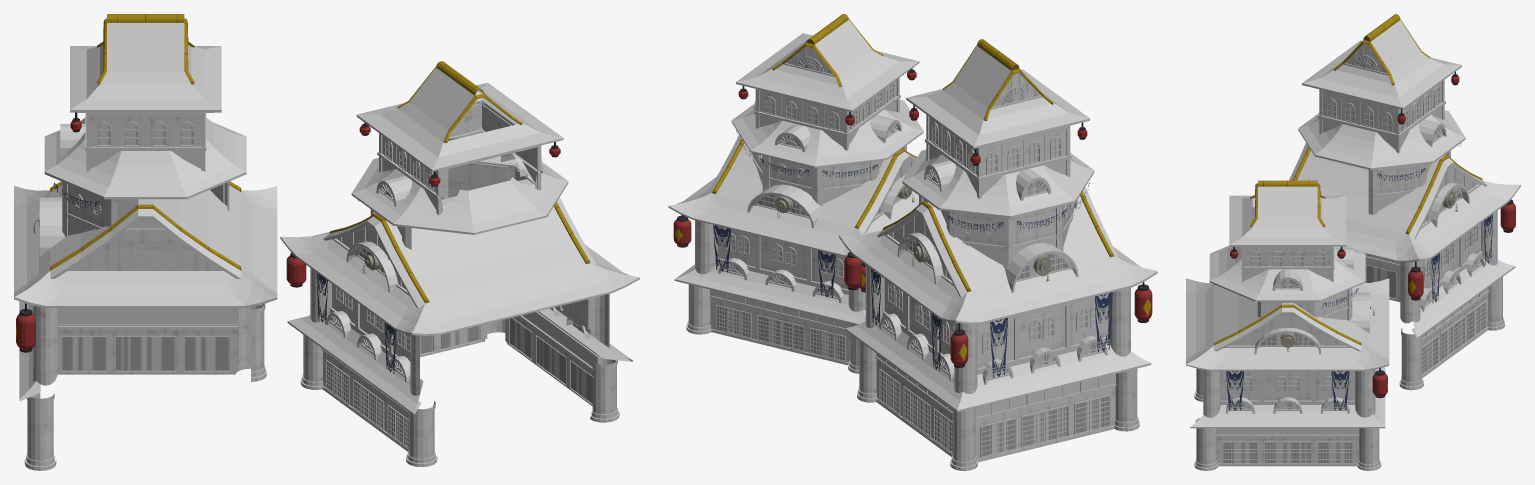
The model's file is MERGED_SM_ENV_KNVLLG_CommonBuilding_J_1.mo.fbx.
The picture shows the model from 3 angles, left to right: view 1: azimuth 30°, elevation 25°; view 2: azimuth 150°, elevation 25°; view 3: azimuth 270°, elevation 25°; orthographic projection. The views are drawn at different scales.
Parts seen in each view (by area): view 1: MERGED_SM_ENV_KNVLLG_CommonBuilding_J_1.mo; view 2: MERGED_SM_ENV_KNVLLG_CommonBuilding_J_1.mo; view 3: MERGED_SM_ENV_KNVLLG_CommonBuilding_J_1.mo.
Boxes of the visible parts, box(x1,y1,x2,y2) form: MERGED_SM_ENV_KNVLLG_CommonBuilding_J_1.mo: box(14, 14, 639, 470); MERGED_SM_ENV_KNVLLG_CommonBuilding_J_1.mo: box(668, 14, 1157, 470); MERGED_SM_ENV_KNVLLG_CommonBuilding_J_1.mo: box(1186, 14, 1520, 470).
Bounding box in the file's own units: 57.37 × 42.5 × 41.16.
